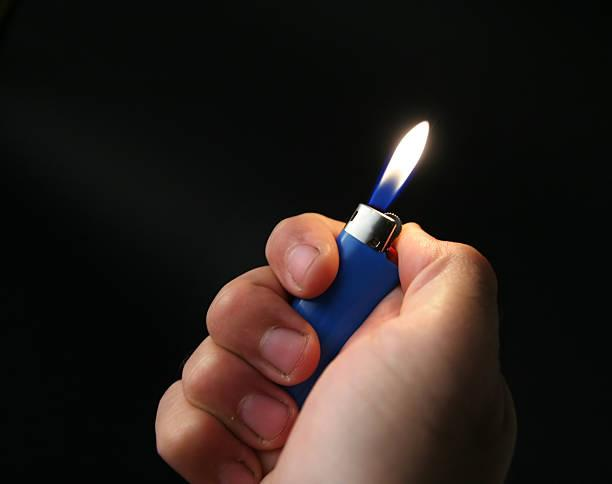Fire: (365, 113, 433, 209)
